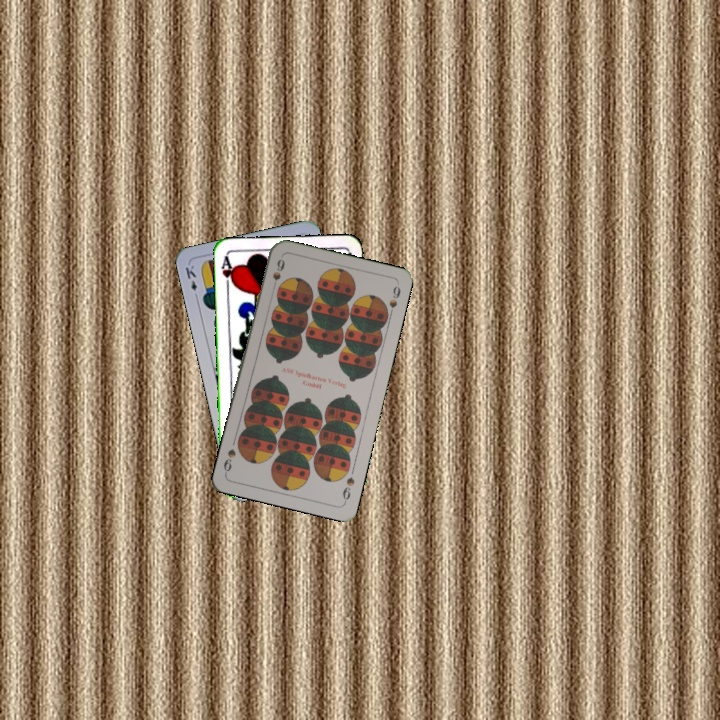EK: (181, 261, 201, 302)
HA: (217, 253, 237, 293)
S9: (339, 473, 357, 505), (269, 255, 287, 283)
